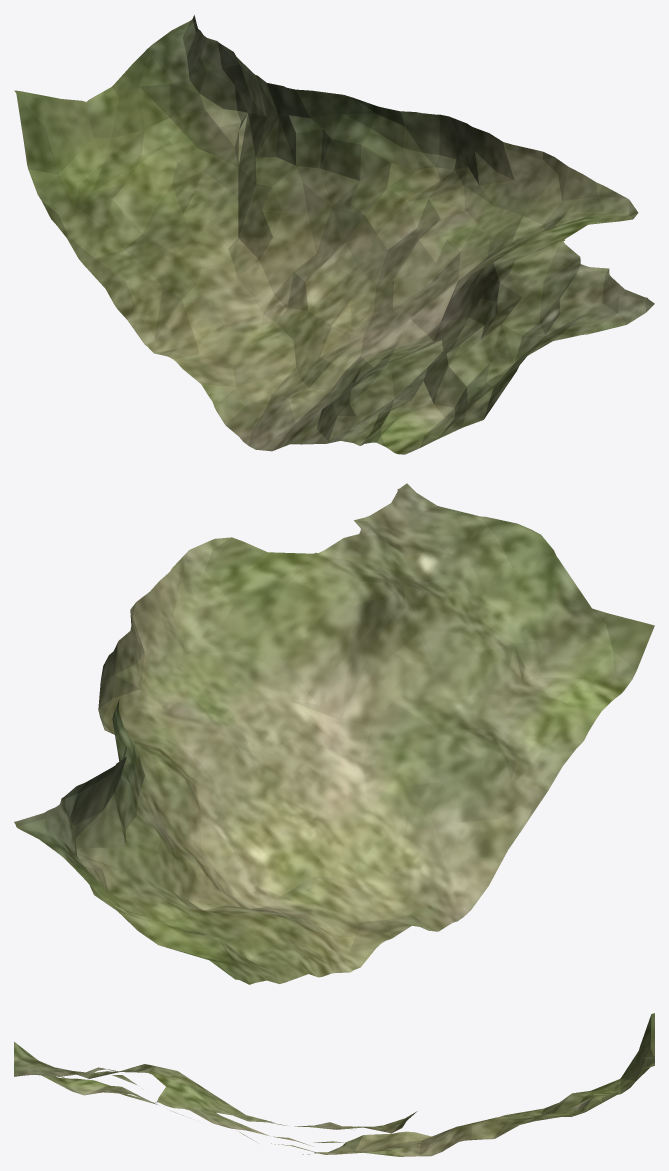
The picture shows the model from 3 angles, top to bottom: view 1: azimuth 30°, elevation 25°; view 2: azimuth 150°, elevation 25°; view 3: azimuth 270°, elevation 25°; orthographic projection. The views are drawn at different scales.
Size of the model in its own units: 2.62 by 1.71 by 5.9.
Materials: 1 (1 with a texture image).
